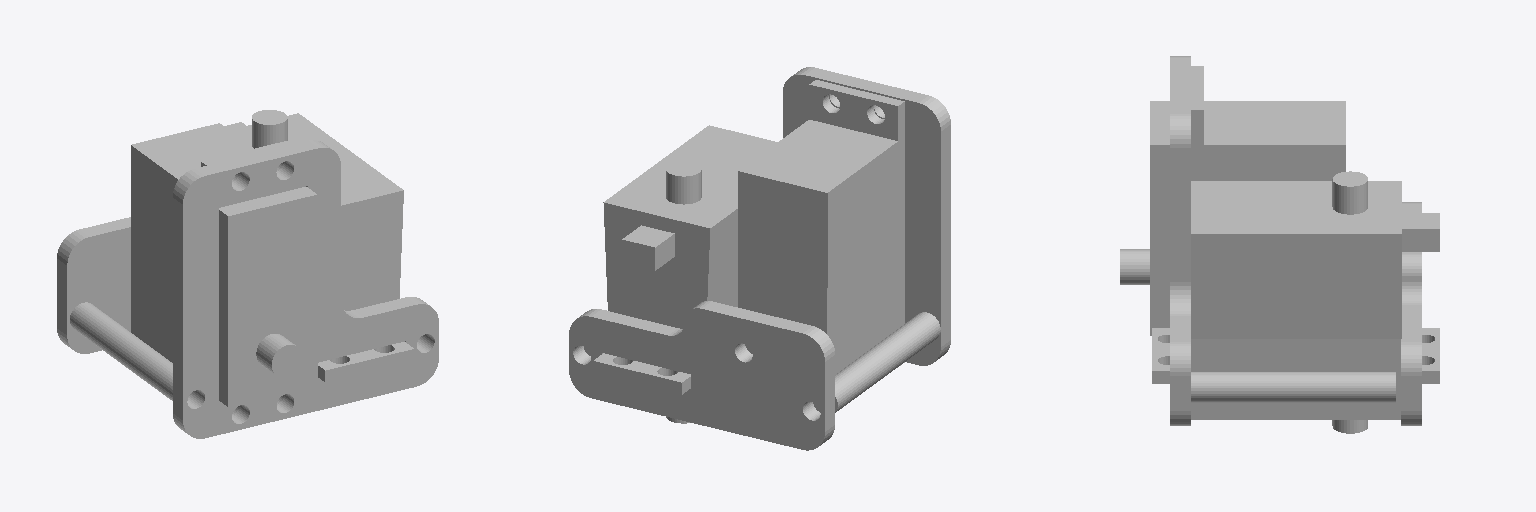
The model's file is shoulder_left.obj.
3 views of the same model, side by side, from view 1: azimuth 30°, elevation 25°; view 2: azimuth 150°, elevation 25°; view 3: azimuth 270°, elevation 25° (orthographic).
Parts seen in each view (by area): view 1: shoulder_right; view 2: shoulder_right; view 3: shoulder_right.
Boxes of the visible parts, x1=… form: shoulder_right: x1=57, y1=110, x2=438, y2=438; shoulder_right: x1=569, y1=67, x2=950, y2=450; shoulder_right: x1=1120, y1=56, x2=1439, y2=433.
Bounding box in the file's own units: 5.75 × 6.27 × 6.24.